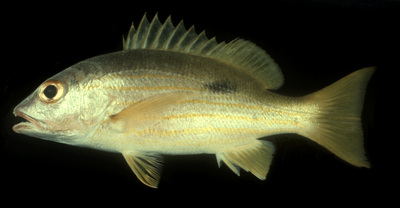fish: (12, 12, 374, 188)
